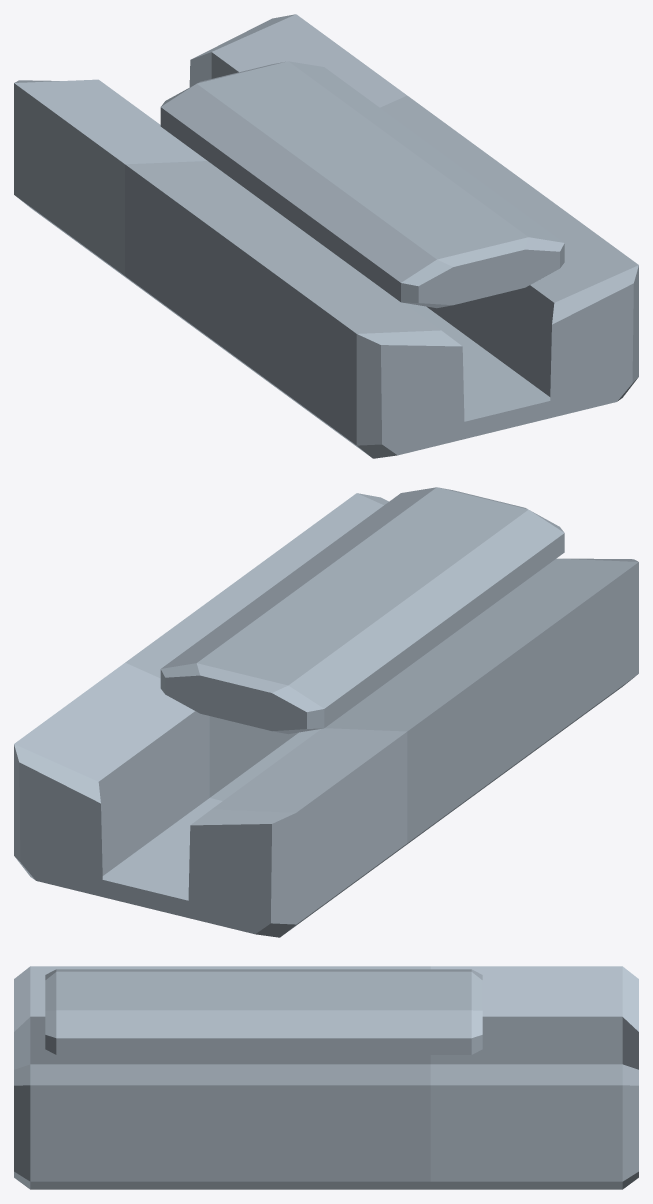
Rendered from pillar_transport_b.glb.
3 renders of one model, top to bottom at view 1: azimuth 30°, elevation 25°; view 2: azimuth 150°, elevation 25°; view 3: azimuth 270°, elevation 25°, orthographic. The views are drawn at different scales.
Parts seen in each view (by area): view 1: pillar_transport_b; view 2: pillar_transport_b; view 3: pillar_transport_b.
Part boxes in pixels (x1,y1,x2,y2): pillar_transport_b: (14,14,638,458); pillar_transport_b: (14,487,638,937); pillar_transport_b: (14,966,638,1189).
Bounding box in the file's own units: 4.1 × 2.35 × 9.1.
